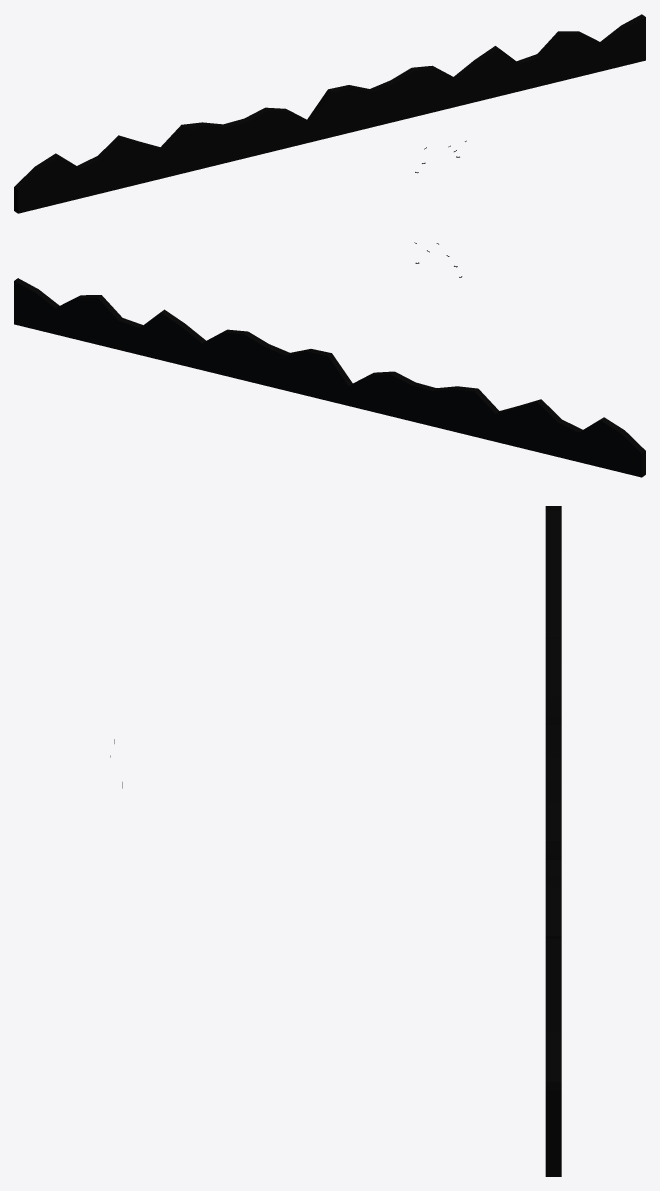
Rendered from backdrop.glb.
The picture shows the model from 3 angles, top to bottom: view 1: azimuth 30°, elevation 25°; view 2: azimuth 150°, elevation 25°; view 3: azimuth 270°, elevation 25°; orthographic projection. The views are drawn at different scales.
Visible parts, largest first — view 1: CHUNK_backdrop; view 2: CHUNK_backdrop; view 3: CHUNK_backdrop.
Boxes of the visible parts, x1,y1,x2,y2 form: CHUNK_backdrop: (14, 14, 645, 213); CHUNK_backdrop: (14, 242, 645, 477); CHUNK_backdrop: (110, 506, 561, 1176).
Bounding box in the file's own units: 180 × 19.62 × 57.51.
1 material, 1 textured.
